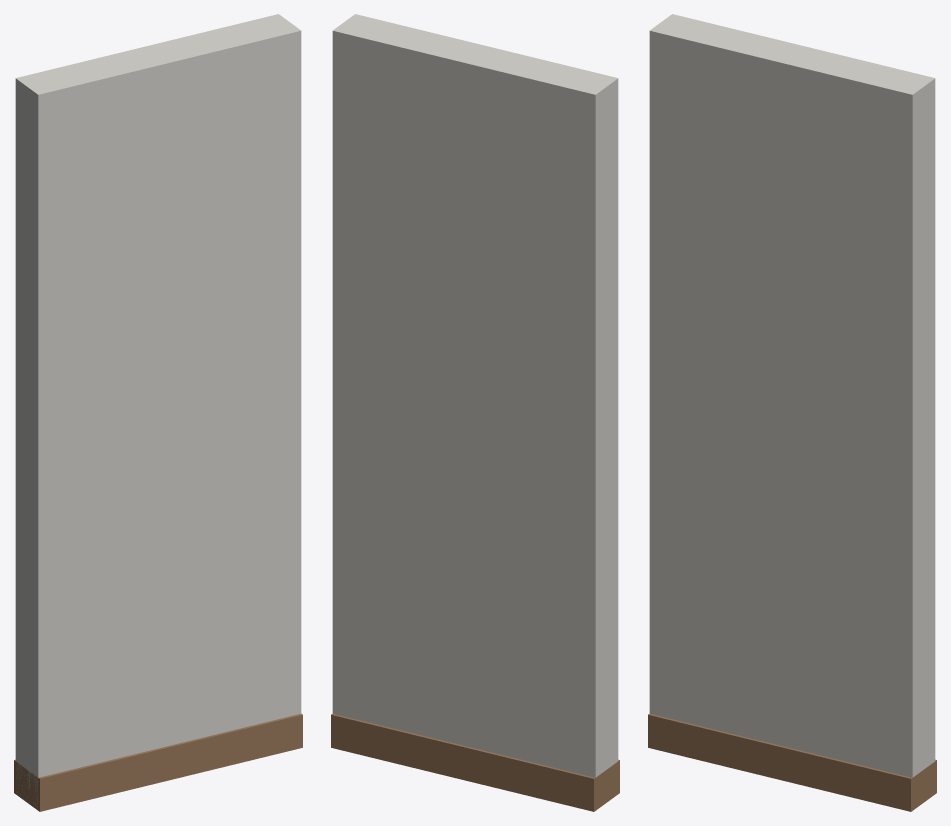
The model's file is wall.glb.
3 views of the same model, side by side, from view 1: azimuth 30°, elevation 25°; view 2: azimuth 150°, elevation 25°; view 3: azimuth 330°, elevation 25° (orthographic).
Visible parts, largest first — view 1: wall; view 2: wall; view 3: wall.
Part boxes in pixels (box(x1,y1,x2,y2)): wall: box(14, 14, 302, 811); wall: box(331, 14, 619, 811); wall: box(648, 14, 936, 811).
Size of the model in its own units: 1 by 2.6 by 0.17.
